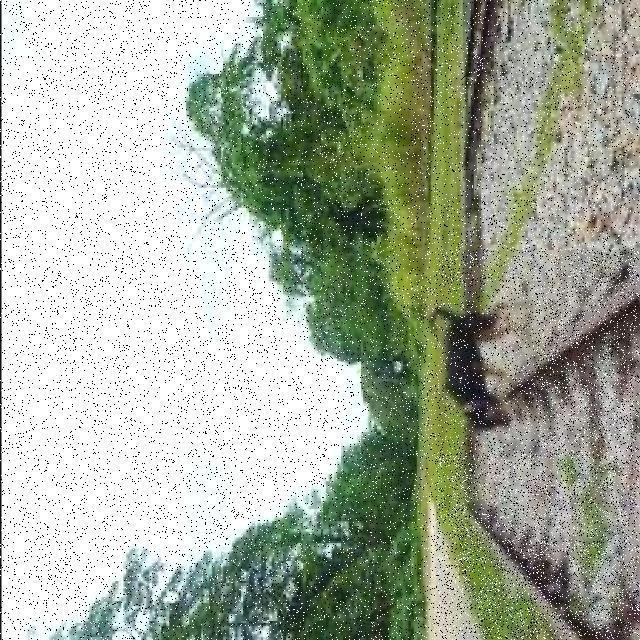rail: (438, 251, 639, 639)
